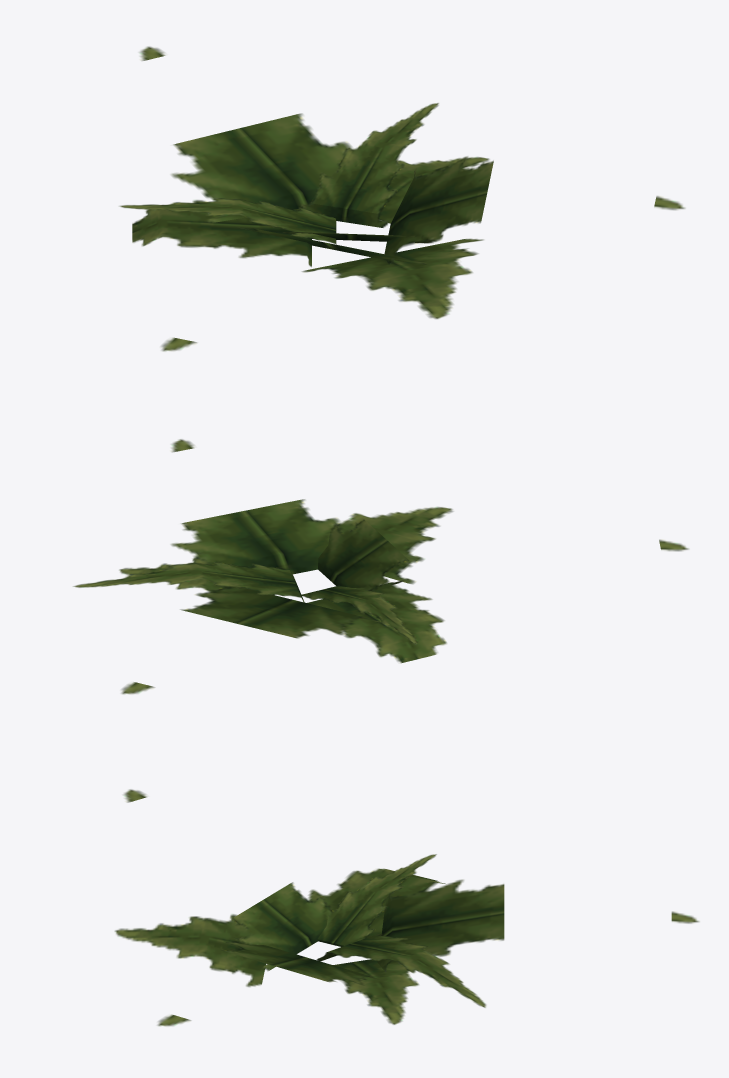
The model's file is lp_bush_c_mid.glb.
The picture shows the model from 3 angles, top to bottom: view 1: azimuth 30°, elevation 25°; view 2: azimuth 150°, elevation 25°; view 3: azimuth 270°, elevation 25°; orthographic projection. The views are drawn at different scales.
Parts seen in each view (by area): view 1: lp_bush_c_mid; view 2: lp_bush_c_mid; view 3: lp_bush_c_mid.
Part boxes in pixels (x1=…): lp_bush_c_mid: x1=119, y1=46, x2=685, y2=351; lp_bush_c_mid: x1=73, y1=439, x2=688, y2=694; lp_bush_c_mid: x1=114, y1=789, x2=699, y2=1026.
Size of the model in its own units: 0.7841 by 0.037 by 0.7578.
1 material, 1 textured.
